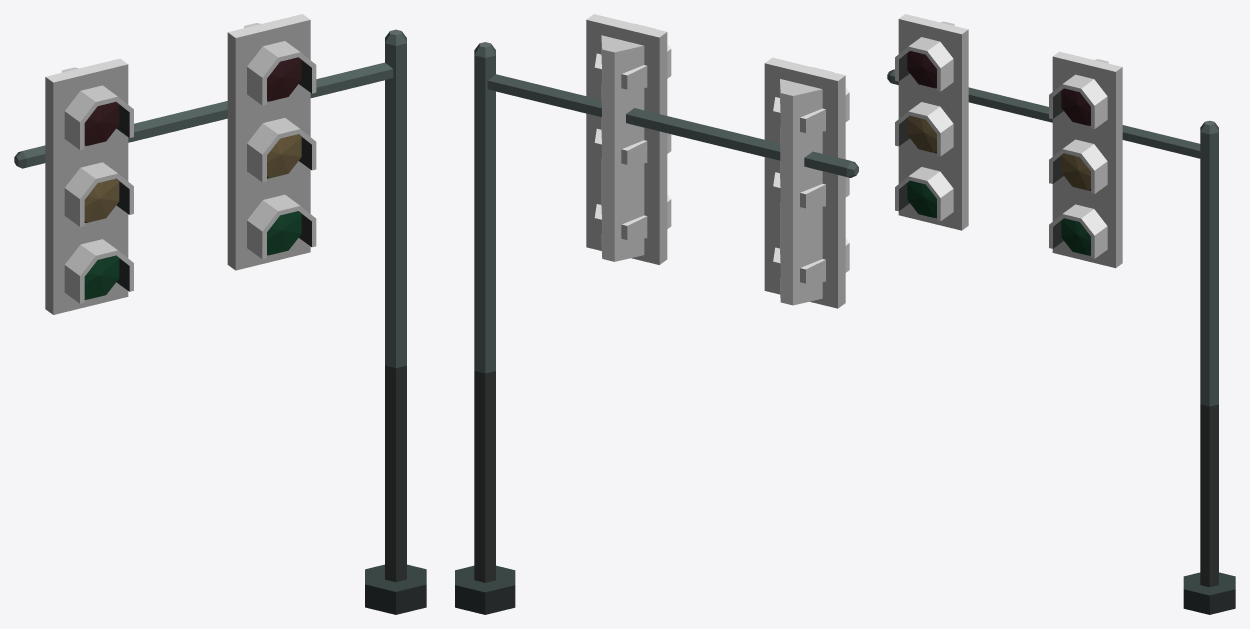
File: TB_CITY_Prop_TrafficLight_HSet_White.FBX
3 renders of one model, left to right at view 1: azimuth 30°, elevation 25°; view 2: azimuth 150°, elevation 25°; view 3: azimuth 330°, elevation 25°, orthographic. The views are drawn at different scales.
Visible parts, largest first — view 1: TB_CITY_Prop_TrafficLight_HSet_White; view 2: TB_CITY_Prop_TrafficLight_HSet_White; view 3: TB_CITY_Prop_TrafficLight_HSet_White.
Part boxes in pixels (x1=…): TB_CITY_Prop_TrafficLight_HSet_White: x1=14, y1=14, x2=426, y2=614; TB_CITY_Prop_TrafficLight_HSet_White: x1=455, y1=14, x2=858, y2=614; TB_CITY_Prop_TrafficLight_HSet_White: x1=887, y1=14, x2=1235, y2=614.
Bounding box in the file's own units: 5.62 × 8.02 × 1.04.
